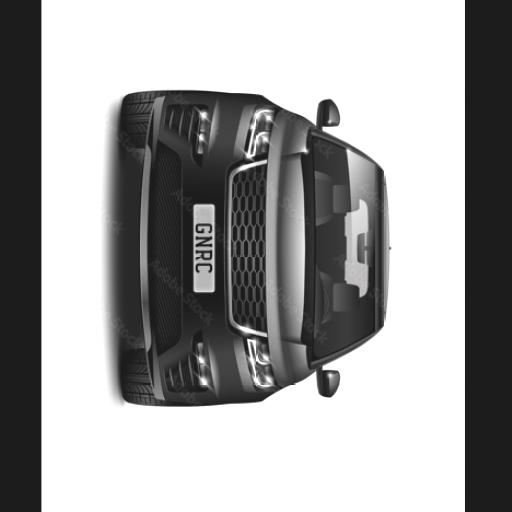suv: (123, 91, 388, 405)
